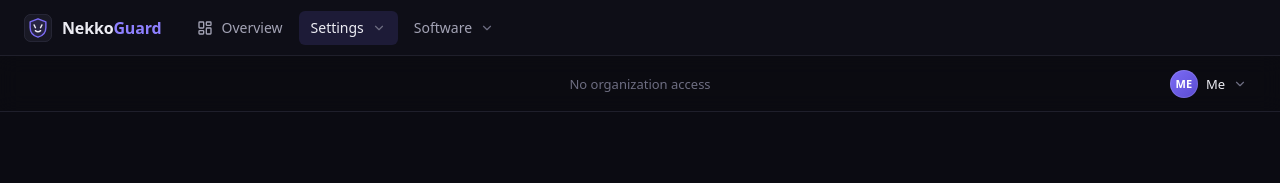
Test: Settings navigation › top navigation: Settings opens a list of styled entries, the active one marked
This screenshot has width=1280, height=183.
Press the mouse on the button "Settings": (348, 28) [298,10,398,44]
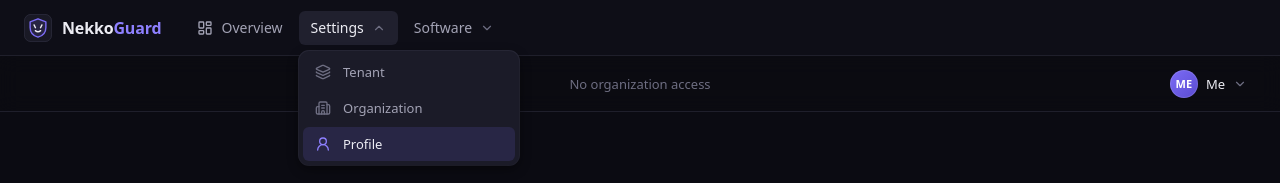
Result: the menu items read "Tenant", "Organization", "Profile", in this order at [315,63,385,81]; [315,99,422,117]; [303,127,515,161]
